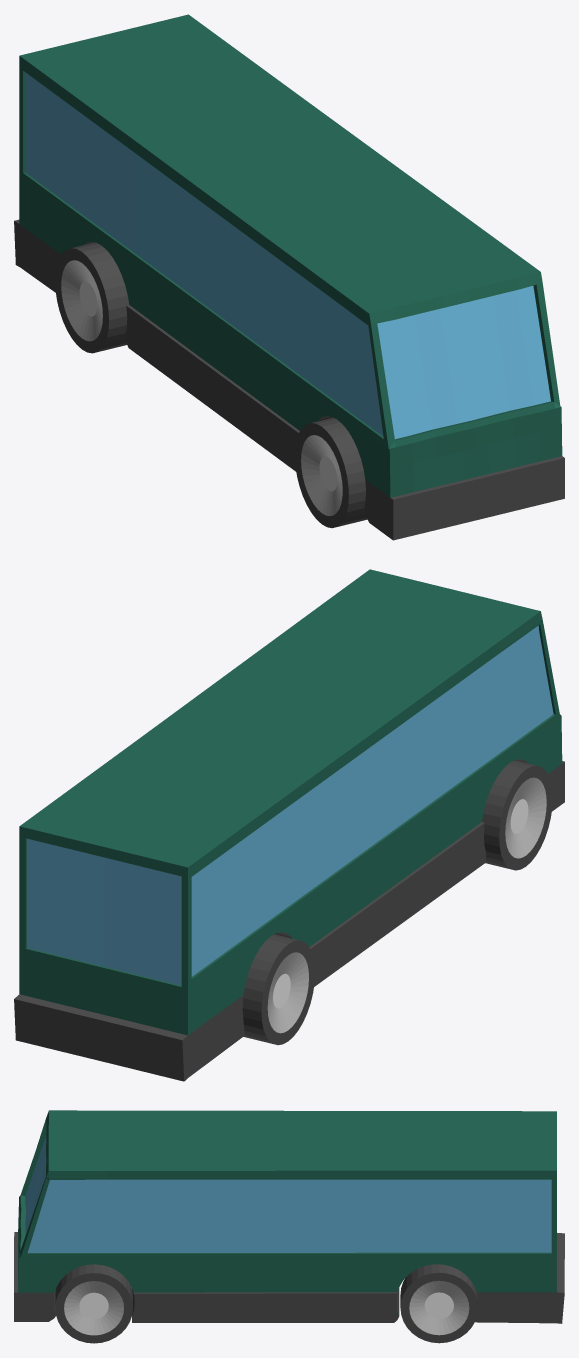
File: bus_green.fbx
3 renders of one model, top to bottom at view 1: azimuth 30°, elevation 25°; view 2: azimuth 150°, elevation 25°; view 3: azimuth 270°, elevation 25°, orthographic. The views are drawn at different scales.
Visible parts, largest first — view 1: Cube.012, Cylinder.042, Cylinder.045; view 2: Cube.012, Cylinder.042, Cylinder.045; view 3: Cube.012, Cylinder.043, Cylinder.044.
Part boxes in pixels (<box>): Cube.012: <box>14,14,564,540</box>; Cylinder.042: <box>55,242,129,353</box>; Cylinder.045: <box>295,417,367,528</box>; Cube.012: <box>14,569,564,1081</box>; Cylinder.042: <box>242,934,314,1045</box>; Cylinder.045: <box>482,760,552,870</box>; Cube.012: <box>14,1110,564,1323</box>; Cylinder.043: <box>55,1264,132,1343</box>; Cylinder.044: <box>400,1264,478,1343</box>.
Size of the model in its own units: 92.15 by 97.12 by 293.
